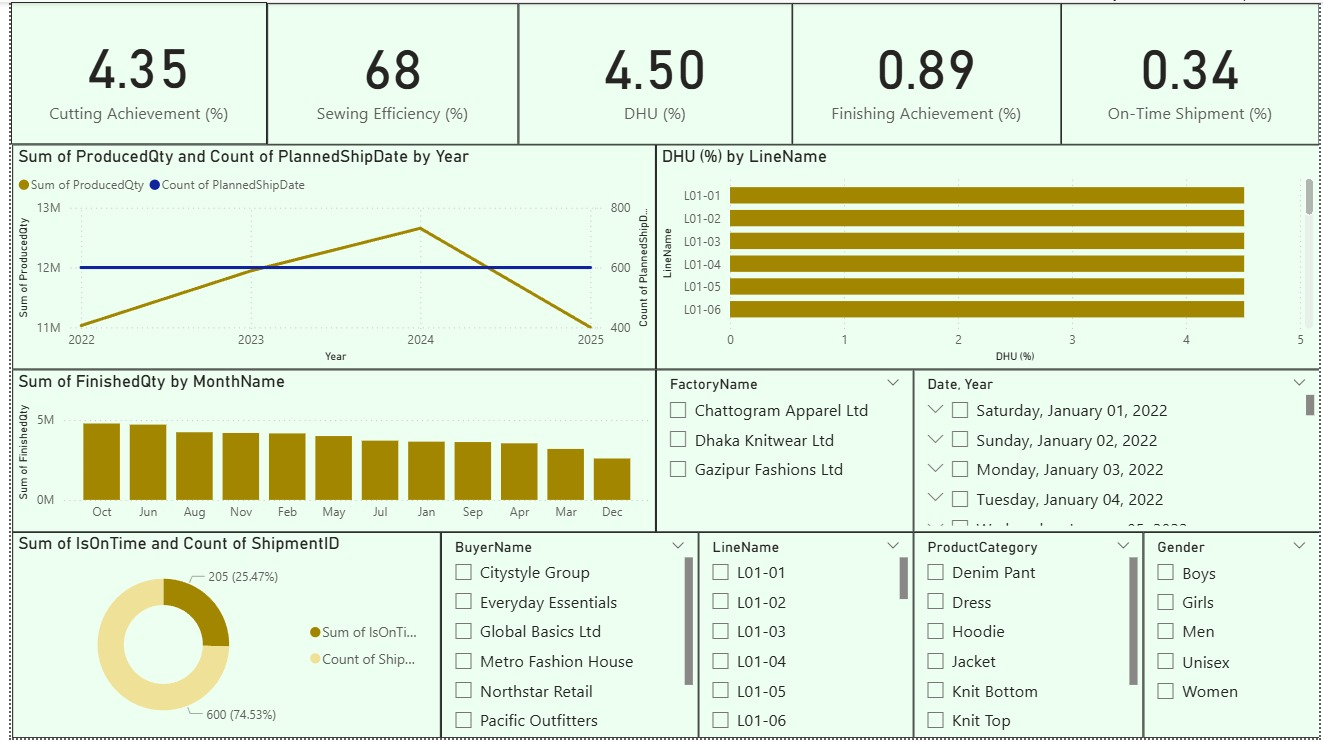

The dashboard page shown, as its layout file describes it:
{"tool":"powerbi","page":{"name":"GMS Dashboard","canvas":[1280,720],"ordinal":1},"visuals":[{"type":"card","fields":{"Values":["fact_cutting_daily.Cutting Achievement (%)"]},"box":[0,0,250.7,139.4],"z":0},{"type":"card","fields":{"Values":["fact_production_daily.Sewing Efficiency (%)"]},"box":[250.7,1.2,245.8,138.2],"z":1000},{"type":"card","fields":{"Values":["fact_production_daily.DHU (%)"]},"box":[496.5,1.2,267.8,138.2],"z":2000},{"type":"card","fields":{"Values":["fact_production_daily.Finishing Achievement (%)"]},"box":[764.3,1.2,262.9,138.2],"z":3000},{"type":"card","fields":{"Values":["dim_date.On-Time Shipment (%)"]},"box":[1027.2,1.2,253.1,138.2],"z":4000},{"type":"lineChart","fields":{"Category":["dim_date.Date.Variation.Date Hierarchy.Year","dim_date.Date.Variation.Date Hierarchy.Quarter","dim_date.Date.Variation.Date Hierarchy.Month","dim_date.Date.Variation.Date Hierarchy.Day"],"Y":["Sum(fact_production_daily.ProducedQty)"],"Y2":["CountNonNull(fact_shipment.PlannedShipDate)"]},"box":[1.2,139.4,629.8,220.1],"z":5000},{"type":"barChart","fields":{"Y":["fact_production_daily.DHU (%)"],"Category":["dim_line.LineName"]},"box":[631,139.4,649.3,220.1],"z":6000},{"type":"columnChart","fields":{"Category":["dim_date.MonthName"],"Y":["Sum(fact_finishing_daily.FinishedQty)"]},"box":[1.2,359.5,629.8,159],"z":7000},{"type":"donutChart","fields":{"Y":["Sum(fact_shipment.IsOnTime)","CountNonNull(fact_shipment.ShipmentID)"]},"box":[1.2,518.5,419.4,201.8],"z":8000},{"type":"slicer","fields":{"Values":["dim_factory.FactoryName"]},"box":[631,359.5,251.9,159],"z":9000},{"type":"slicer","fields":{"Values":["dim_date.Date","dim_date.Year"]},"box":[882.9,359.5,397.4,159],"z":10000},{"type":"slicer","fields":{"Values":["dim_line.LineName"]},"box":[672.6,518.5,210.3,201.8],"z":11000},{"type":"slicer","fields":{"Values":["dim_style.ProductCategory"]},"box":[882.9,518.5,225,201.8],"z":12000},{"type":"slicer","fields":{"Values":["dim_buyer.BuyerName"]},"box":[420.7,518.5,251.9,201.8],"z":13000},{"type":"slicer","fields":{"Values":["dim_style.Gender"]},"box":[1107.9,518.5,172.4,201.8],"z":14000}]}

Visuals, with their boxes in screenshot pixels (x1, y1, x2, y2), scaled from the page's 1280x720 canvas onto the 1323x742 screenshot:
card - fact_cutting_daily.Cutting Achievement (%): region(0, 0, 259, 144)
card - fact_production_daily.Sewing Efficiency (%): region(259, 1, 513, 144)
card - fact_production_daily.DHU (%): region(513, 1, 790, 144)
card - fact_production_daily.Finishing Achievement (%): region(790, 1, 1062, 144)
card - dim_date.On-Time Shipment (%): region(1062, 1, 1322, 144)
lineChart - dim_date.Date.Variation.Date Hierarchy.Year x dim_date.Date.Variation.Date Hierarchy.Quarter: region(1, 144, 652, 370)
barChart - fact_production_daily.DHU (%) x dim_line.LineName: region(652, 144, 1322, 370)
columnChart - dim_date.MonthName x Sum(fact_finishing_daily.FinishedQty): region(1, 370, 652, 534)
donutChart - Sum(fact_shipment.IsOnTime) x CountNonNull(fact_shipment.ShipmentID): region(1, 534, 435, 741)
slicer - dim_factory.FactoryName: region(652, 370, 913, 534)
slicer - dim_date.Date x dim_date.Year: region(913, 370, 1322, 534)
slicer - dim_line.LineName: region(695, 534, 913, 741)
slicer - dim_style.ProductCategory: region(913, 534, 1145, 741)
slicer - dim_buyer.BuyerName: region(435, 534, 695, 741)
slicer - dim_style.Gender: region(1145, 534, 1322, 741)
